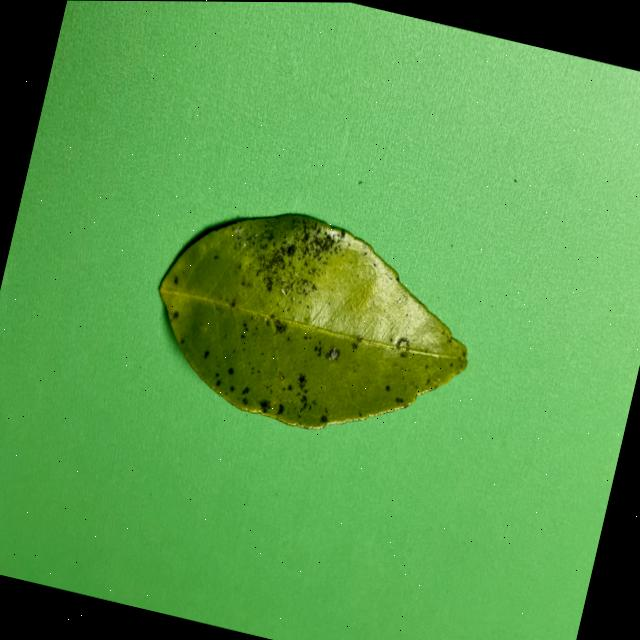sooty_mold: (159, 213, 466, 426)
